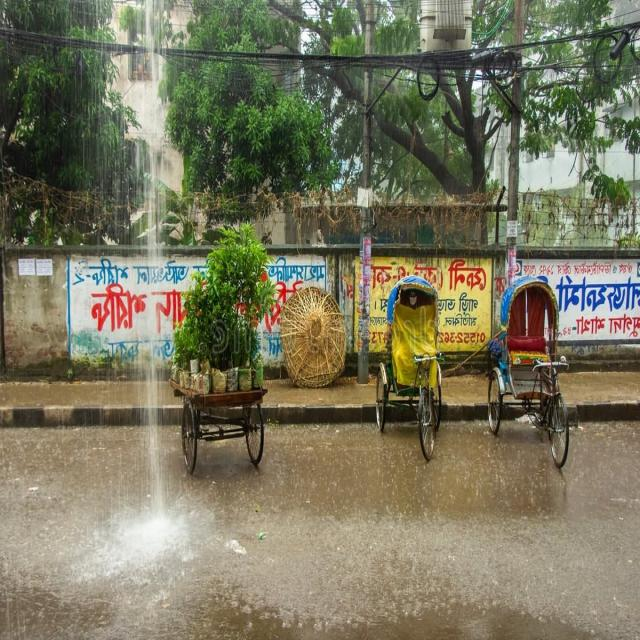Rickshaw: (488, 276, 581, 470), (376, 264, 452, 462)
Van: (166, 372, 283, 480)
